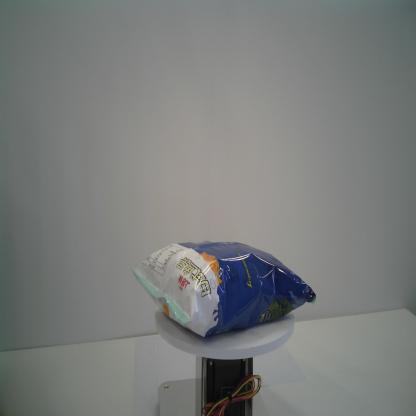Puffed Food: (130, 238, 318, 339)
